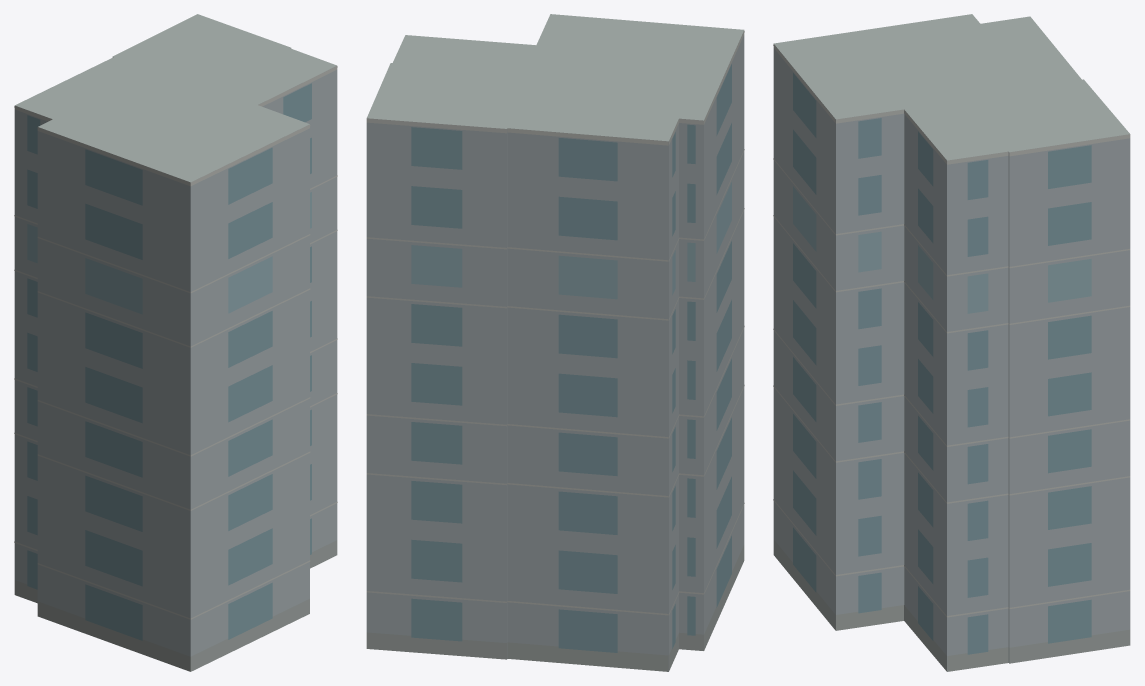
File: survey-upis-32696921.glb
3 views of the same model, side by side, from view 1: azimuth 30°, elevation 25°; view 2: azimuth 150°, elevation 25°; view 3: azimuth 270°, elevation 25° (orthographic). The views are drawn at different scales.
Parts seen in each view (by area): view 1: survey-upis-32696921.tmp; view 2: survey-upis-32696921.tmp; view 3: survey-upis-32696921.tmp.
Part boxes in pixels (bbox=[...]): survey-upis-32696921.tmp: bbox=[14, 14, 337, 671]; survey-upis-32696921.tmp: bbox=[366, 14, 744, 671]; survey-upis-32696921.tmp: bbox=[773, 14, 1130, 671].
Bounding box in the file's own units: 18.46 × 30 × 19.
